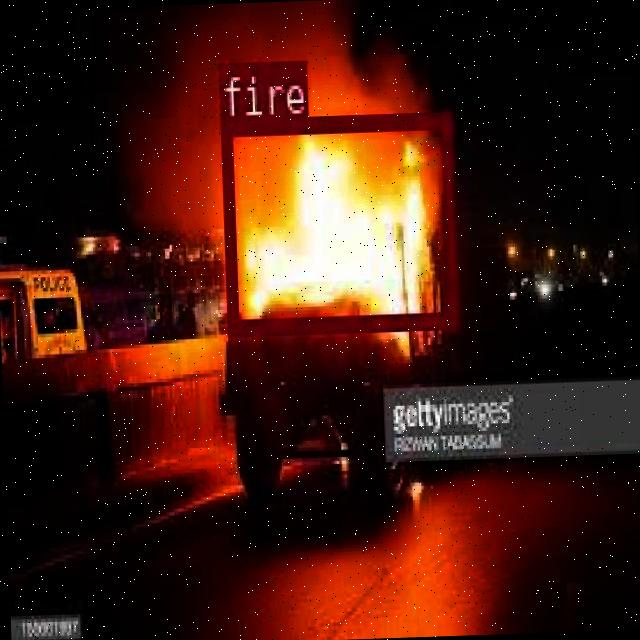fire: (219, 108, 456, 334)
